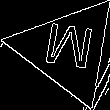M_S: (39, 22, 96, 78)
